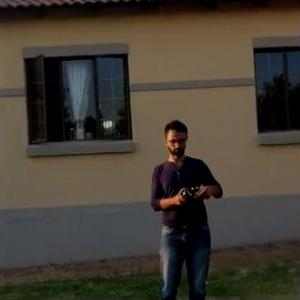follow: (146, 112, 227, 299)
